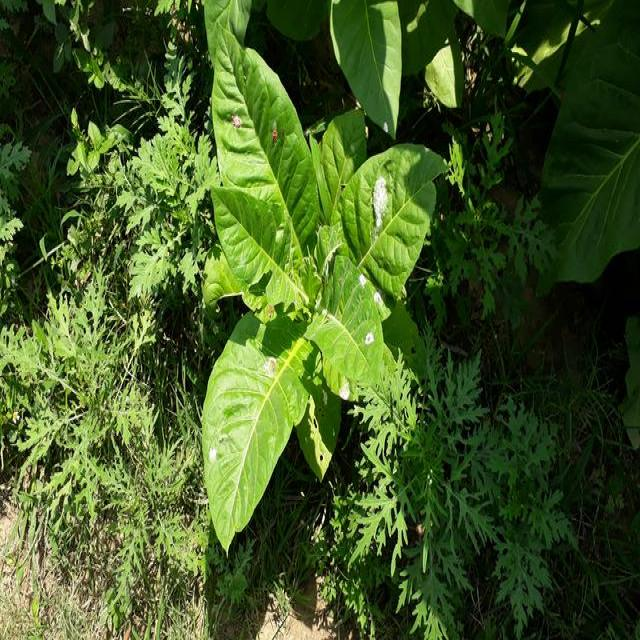crop: (206, 34, 442, 540)
